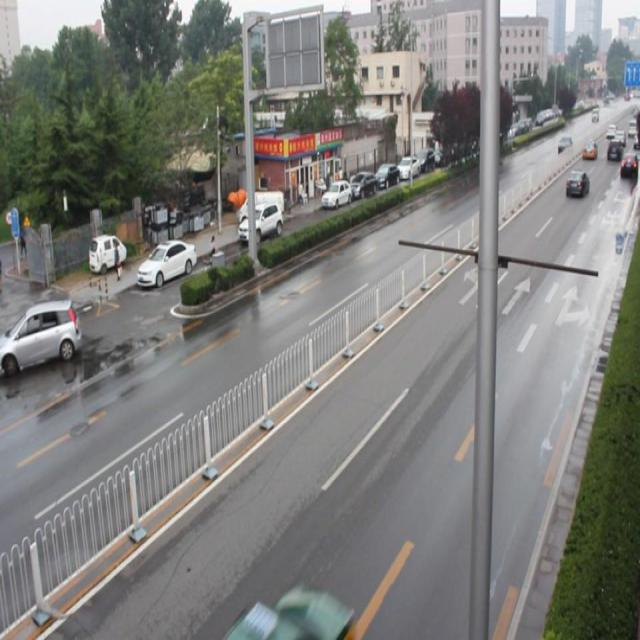car: (564, 169, 586, 192)
